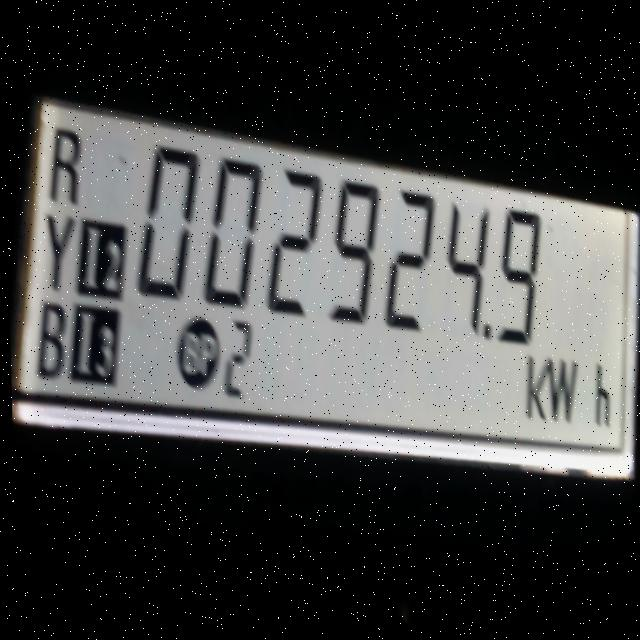.: (479, 318, 488, 336)
0: (134, 143, 197, 295), (203, 155, 261, 299)
2: (264, 168, 323, 315), (383, 186, 438, 332)
4: (437, 196, 489, 331)
9: (325, 177, 383, 322), (493, 207, 542, 343)
